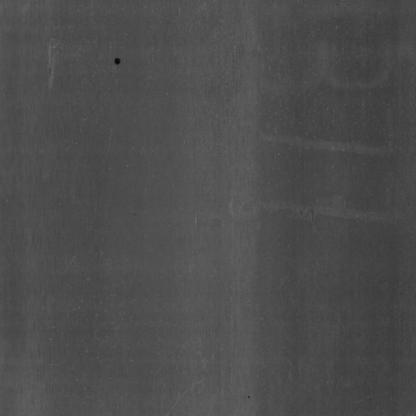inclusion: (111, 52, 123, 71)
